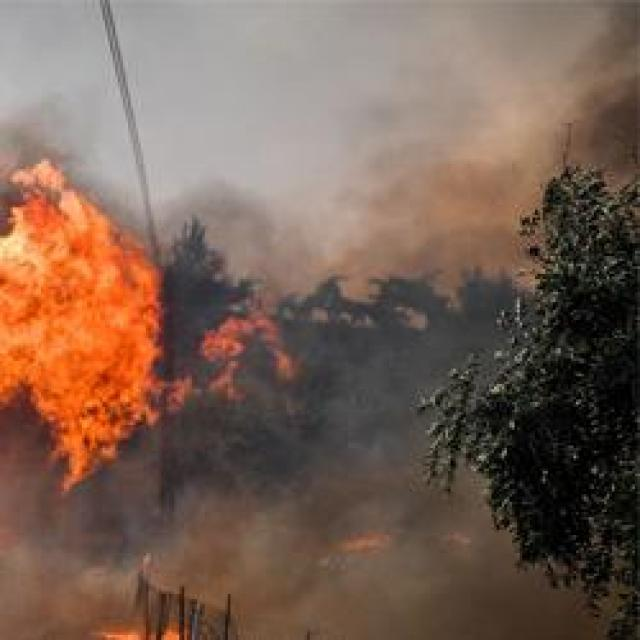Fire: (0, 161, 161, 490), (163, 312, 300, 413)
Smoke: (247, 0, 549, 261), (230, 489, 510, 638)
